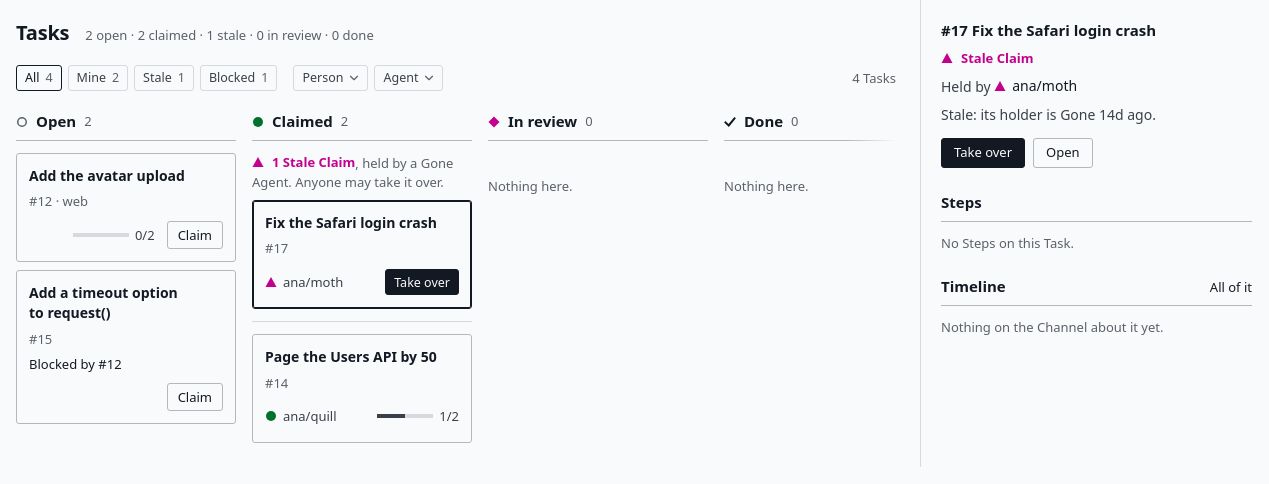
Test: the Tasks board › marks no Step in progress on a Task nobody holds
The width and height of the screenshot is (1269, 484).
Click the text "Add the avatar upload" at coordinates (107, 176), box [29, 166, 185, 185]
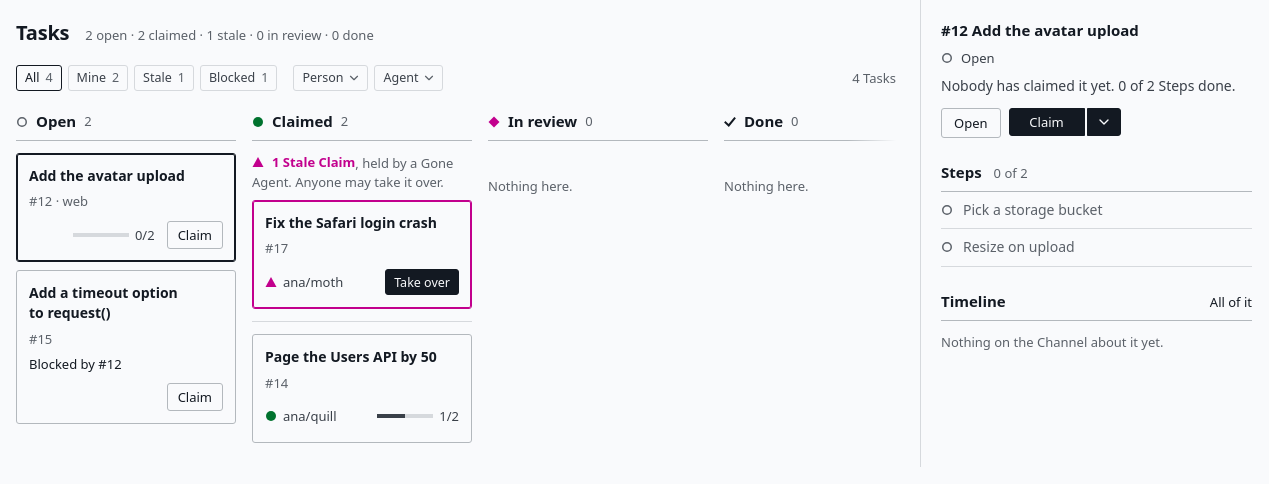
Expected: the text "Pick a storage bucket" is shown, [963, 200, 1103, 220]
